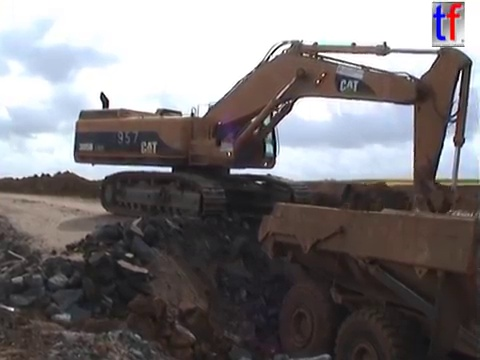excavator: (70, 36, 475, 257)
truck: (254, 198, 480, 360)
